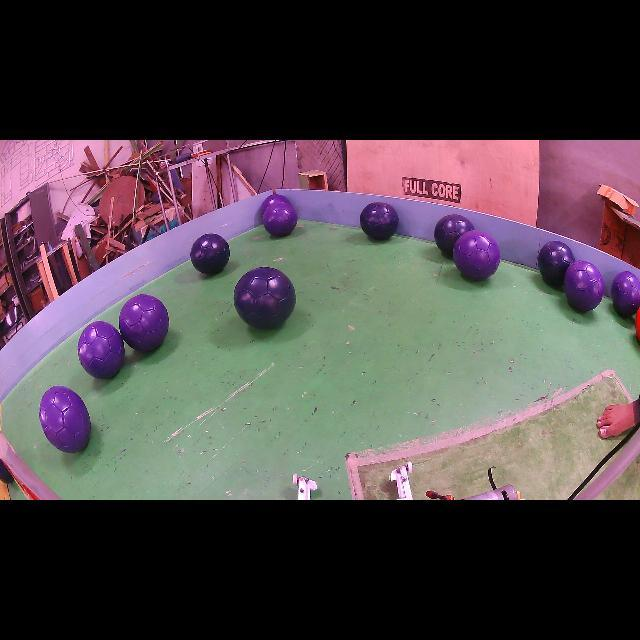B: (234, 268, 296, 329), (538, 241, 575, 288), (434, 214, 474, 257), (190, 234, 230, 274), (360, 202, 399, 240)
P: (39, 386, 91, 452), (119, 294, 169, 351), (78, 321, 125, 379), (452, 230, 500, 280), (564, 260, 605, 311), (611, 271, 640, 316), (262, 201, 298, 236), (260, 194, 290, 215)
